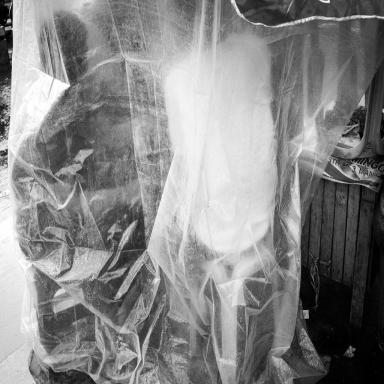plasticbag: (6, 0, 384, 383)
